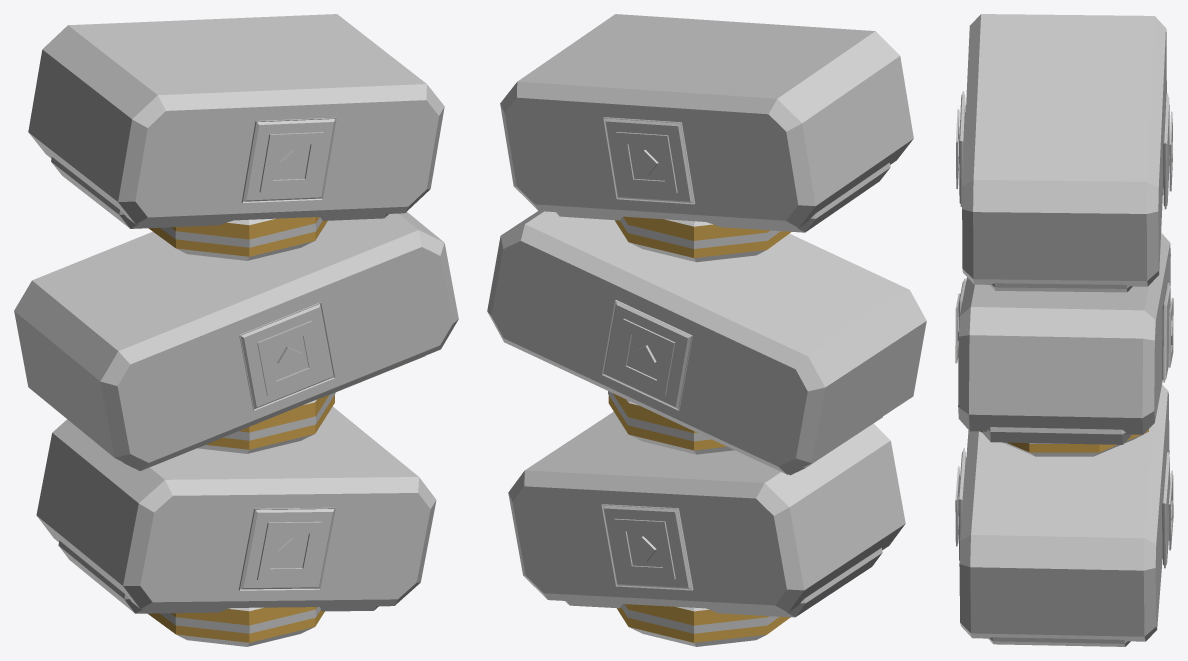
The model's file is wand_motion_22.obj.
3 renders of one model, left to right at view 1: azimuth 30°, elevation 25°; view 2: azimuth 150°, elevation 25°; view 3: azimuth 270°, elevation 25°, orthographic. The views are drawn at different scales.
Visible parts, largest first — view 1: chamfered_seal_tablet_1, chamfered_seal_tablet_2, chamfered_seal_tablet_0, inset_rune_socket_3, inset_rune_socket_1, inset_rune_socket_5, tablet_spacer_2, tablet_spacer_0, tablet_spacer_1, seal_shadow_base_2, seal_shadow_base_0, tablet_spacer_dark_seam_2 (+2 smaller); view 2: chamfered_seal_tablet_1, chamfered_seal_tablet_2, chamfered_seal_tablet_0, inset_rune_socket_4, inset_rune_socket_0, inset_rune_socket_2, tablet_spacer_2, tablet_spacer_0, tablet_spacer_1, seal_shadow_base_0, seal_shadow_base_2, tablet_spacer_dark_seam_2 (+2 smaller); view 3: chamfered_seal_tablet_2, chamfered_seal_tablet_0, chamfered_seal_tablet_1, seal_shadow_base_1, tablet_spacer_1, seal_shadow_base_2, seal_shadow_base_0, inset_rune_socket_0, inset_rune_socket_4, inset_rune_socket_2, inset_rune_socket_5, inset_rune_socket_1.
Boxes of the visible parts, x1,y1,x2,y2 form: chamfered_seal_tablet_1: (14, 212, 458, 470); chamfered_seal_tablet_2: (28, 14, 444, 224); chamfered_seal_tablet_0: (36, 406, 436, 608); inset_rune_socket_3: (239, 302, 334, 410); inset_rune_socket_1: (238, 507, 335, 590); inset_rune_socket_5: (241, 117, 336, 202); tablet_spacer_2: (149, 217, 327, 260); tablet_spacer_0: (148, 607, 324, 646); tablet_spacer_1: (197, 395, 334, 453); seal_shadow_base_2: (51, 157, 388, 228); seal_shadow_base_0: (58, 540, 378, 613); tablet_spacer_dark_seam_2: (160, 217, 322, 247); chamfered_seal_tablet_1: (487, 211, 926, 474); chamfered_seal_tablet_2: (500, 14, 913, 227); chamfered_seal_tablet_0: (508, 411, 905, 612); inset_rune_socket_4: (603, 117, 695, 204); inset_rune_socket_0: (601, 504, 693, 590); inset_rune_socket_2: (602, 300, 692, 410); tablet_spacer_2: (615, 216, 791, 262); tablet_spacer_0: (616, 604, 790, 646); tablet_spacer_1: (608, 393, 734, 454); seal_shadow_base_0: (565, 548, 882, 617); seal_shadow_base_2: (555, 162, 890, 232); tablet_spacer_dark_seam_2: (620, 217, 780, 248); chamfered_seal_tablet_2: (962, 14, 1166, 286); chamfered_seal_tablet_0: (959, 384, 1169, 641); chamfered_seal_tablet_1: (958, 232, 1170, 434); seal_shadow_base_1: (982, 427, 1131, 444); tablet_spacer_1: (980, 429, 1148, 456); seal_shadow_base_2: (990, 283, 1132, 292); seal_shadow_base_0: (988, 637, 1130, 646); inset_rune_socket_0: (1162, 452, 1170, 568); inset_rune_socket_4: (1163, 93, 1169, 209); inset_rune_socket_2: (1162, 282, 1170, 382); inset_rune_socket_5: (959, 91, 965, 206); inset_rune_socket_1: (958, 448, 966, 560).
Size of the model in its own units: 0.1994 by 0.3104 by 0.1147.
